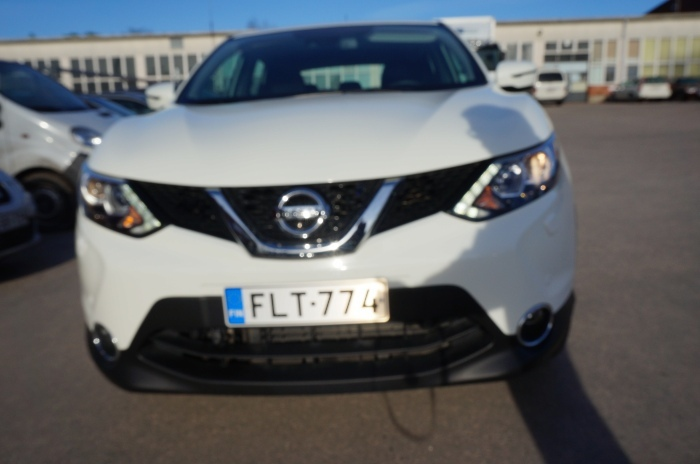license: (220, 276, 389, 328)
